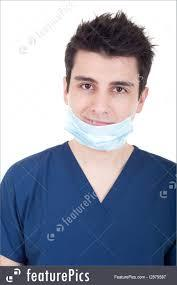Wore Mask Incorrectly: (49, 5, 156, 153)
